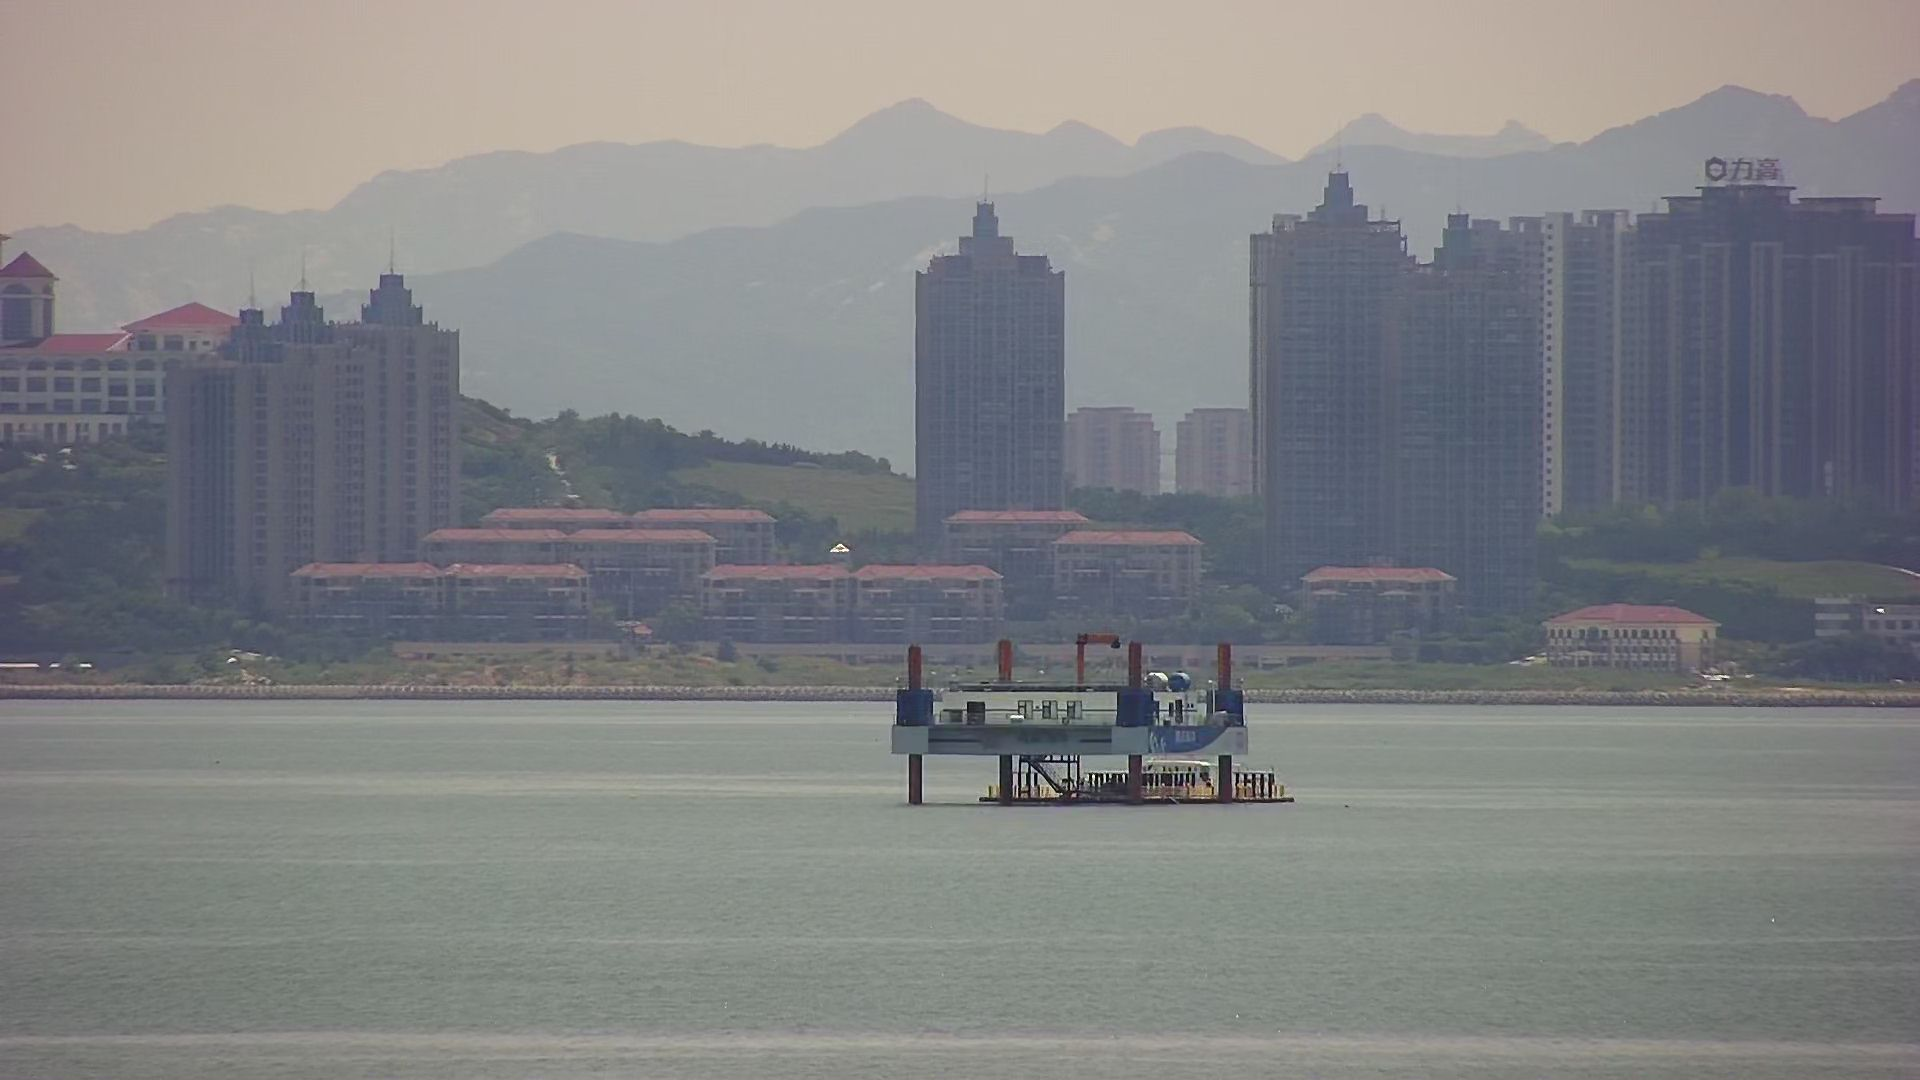platform: (895, 644, 1296, 812)
